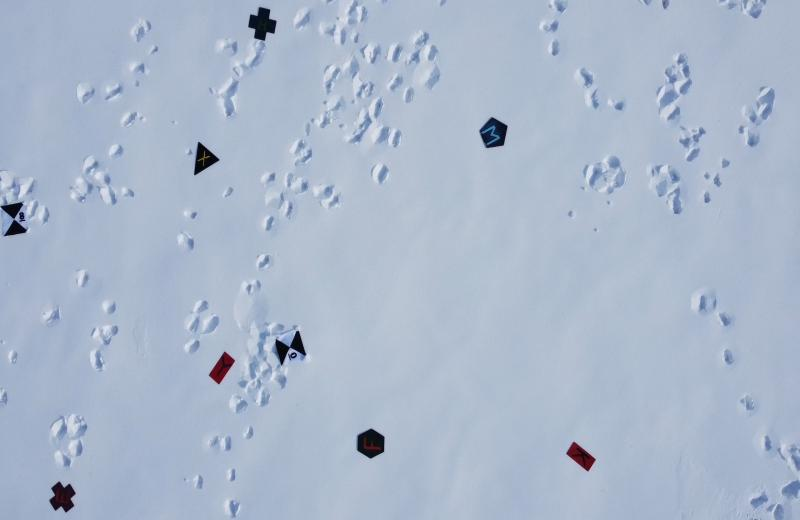Cross: (245, 3, 281, 50), (47, 477, 78, 514)
Hexagon: (349, 424, 388, 462)
Pentagon: (475, 113, 512, 154)
Rectangle: (205, 348, 242, 391), (562, 438, 599, 478)
Triangle: (185, 137, 221, 177)
